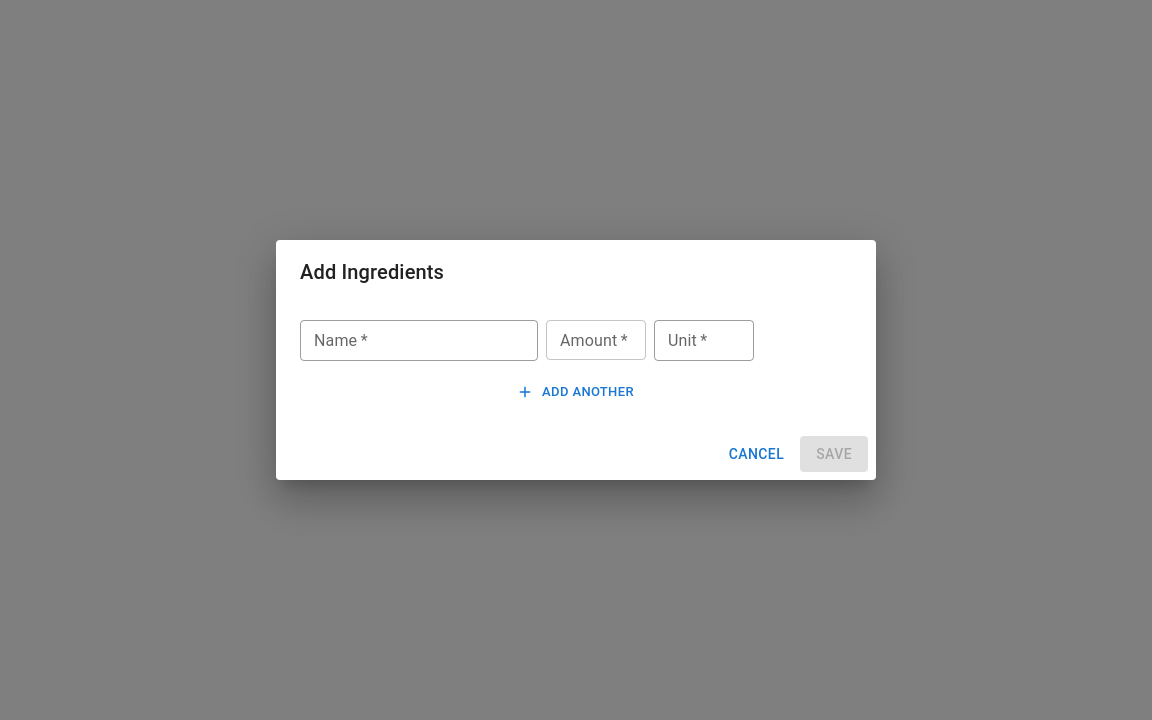
IngredientFormDialog › Add mode › can add another row
Click the button with test id "add-another-row": (576, 392) left=300, top=377, right=852, bottom=408
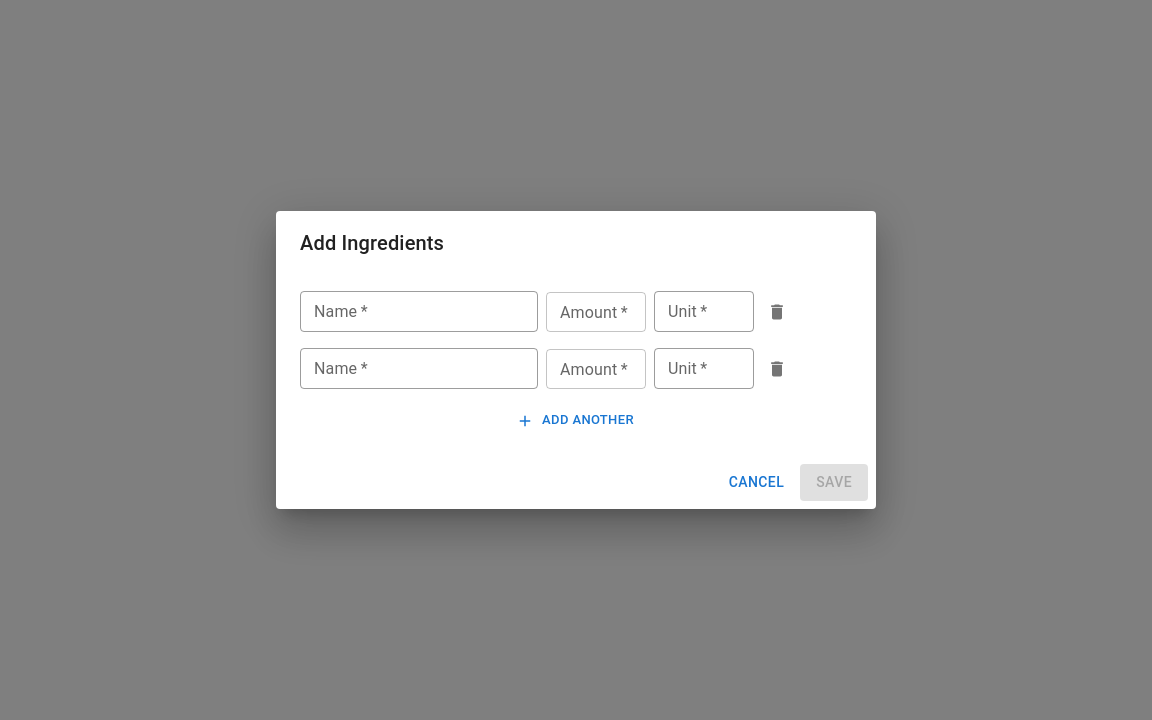
Expected: the element with test id "ingredient-name-1" is shown, left=300, top=348, right=538, bottom=389
